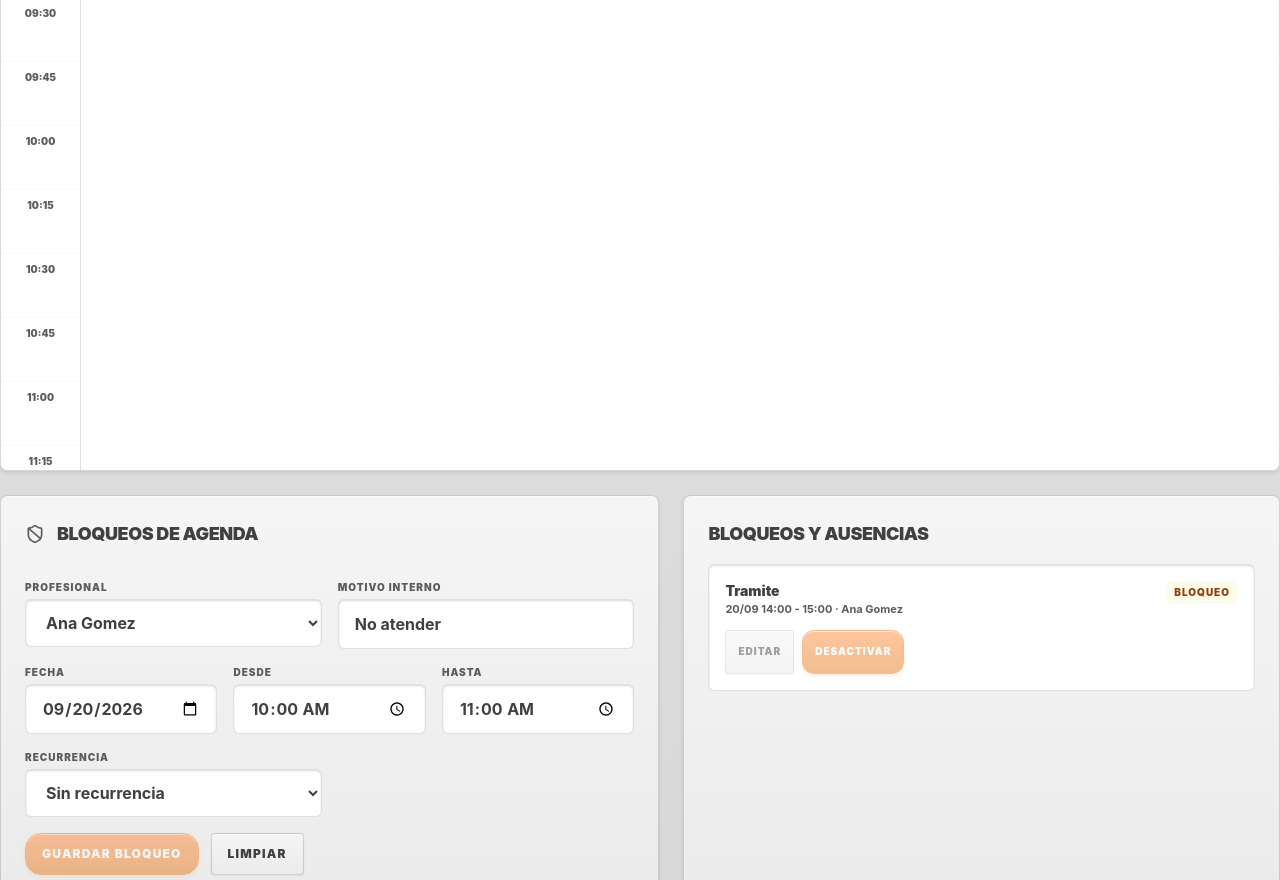
Test: CalendarContainer - vistas, orden y navegacion (F11c-08) › con la tienda suspendida "Editar" y "Desactivar" quedan deshabilitados con el motivo
The image size is (1280, 880).
(page scrolled)
Check: the button "Editar" is disabled, box x1=725 y1=630 x2=794 y2=674
Click the button "Desactivar". click: (853, 652)
box: x1=802 y1=630 x2=904 y2=674
(page scrolled)
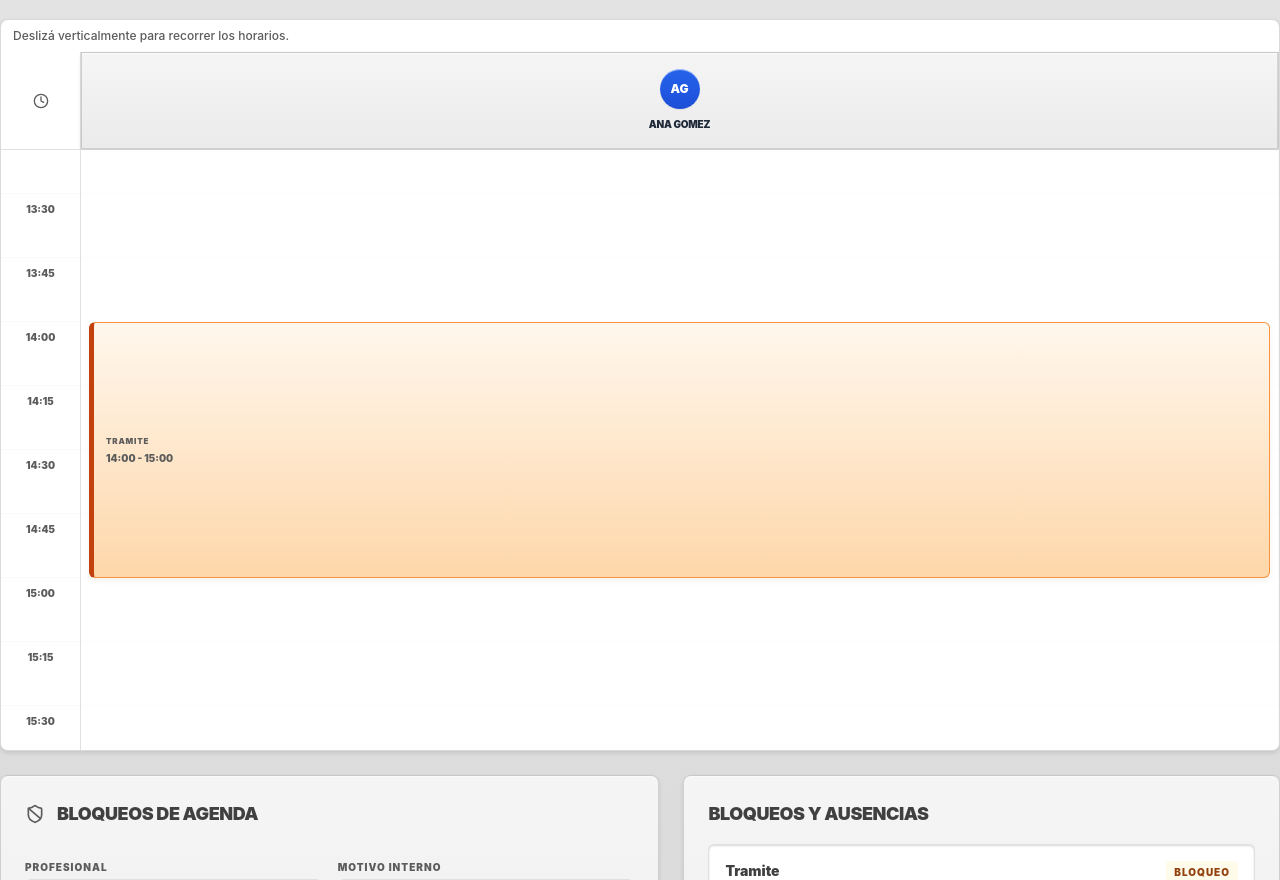
Check: the button "Tramite 14:00 - 15:00" is disabled, box x1=89 y1=322 x2=1270 y2=578
